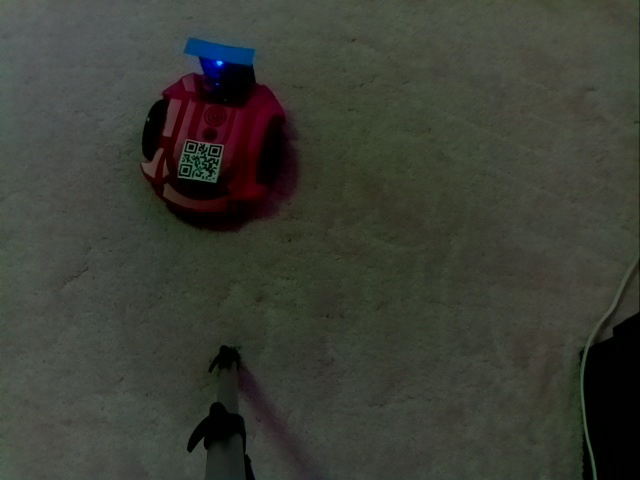chassis: (133, 27, 295, 226)
qr: (174, 138, 227, 187)
